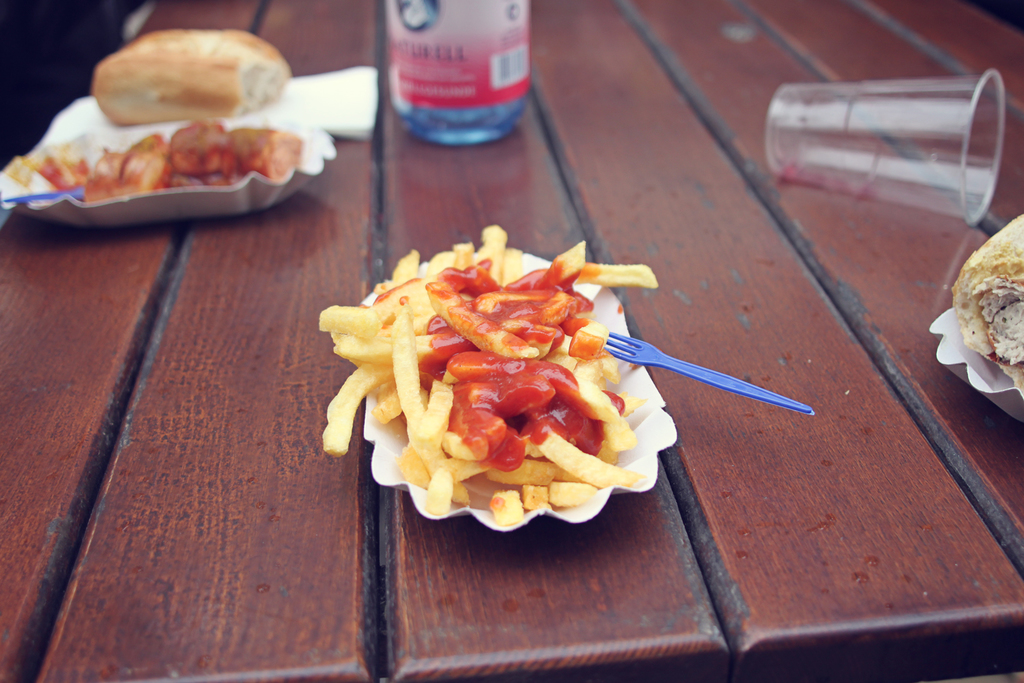French fries: (318, 251, 662, 542)
